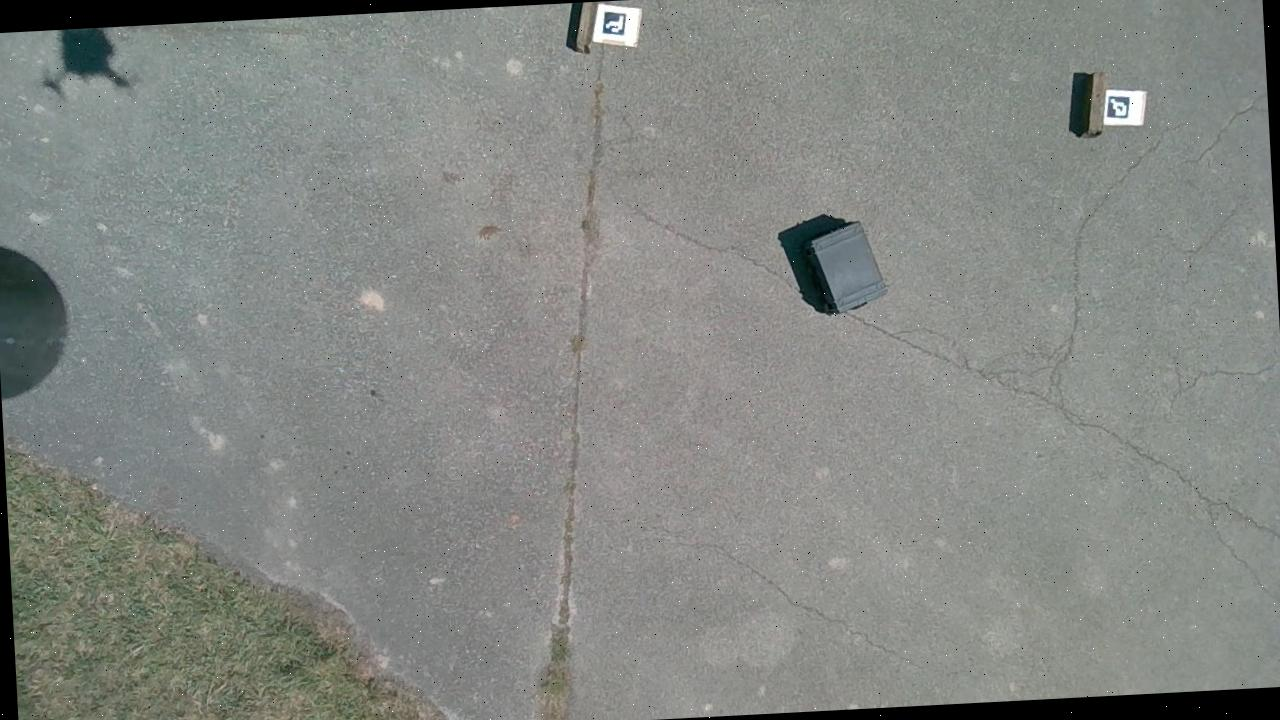rako: (778, 213, 889, 316)
